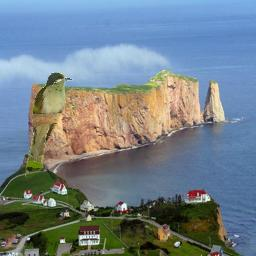Cuckoo: (25, 72, 73, 179)
